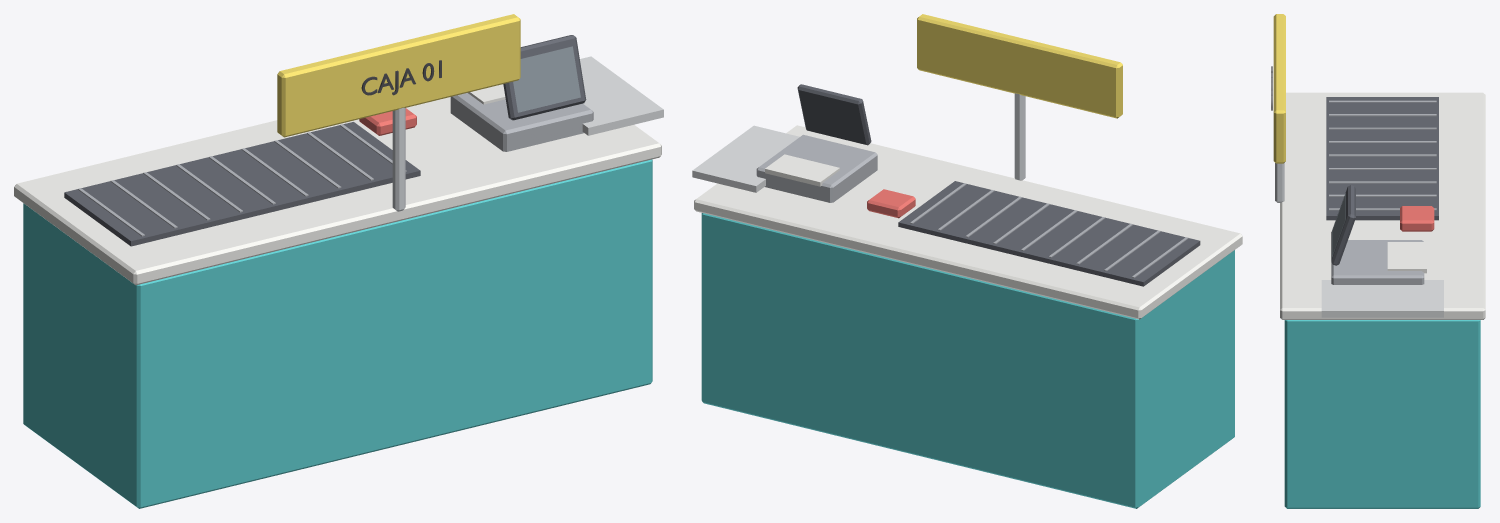
Rendered from Caja_01.fbx.
3 views of the same model, side by side, from view 1: azimuth 30°, elevation 25°; view 2: azimuth 150°, elevation 25°; view 3: azimuth 270°, elevation 25° (orthographic). The views are drawn at different scales.
Parts seen in each view (by area): view 1: Caja_01 | Mostrador, Caja_01 | Sobremesa, Caja_01 | Cinta, Caja_01 | Panel letrero caja, Caja_01 | Pantalla, Caja_01 | Base caja registradora, Caja_01 | Zona bolsas, Caja_01 | Pantalla luz, Caja_01 | Poste letrero, Caja_01 | Escanner, Caja_01 | Texto caja; view 2: Caja_01 | Mostrador, Caja_01 | Sobremesa, Caja_01 | Cinta, Caja_01 | Panel letrero caja, Caja_01 | Base caja registradora, Caja_01 | Zona bolsas, Caja_01 | Pantalla, Caja_01 | Teclado, Caja_01 | Poste letrero, Caja_01 | Escanner; view 3: Caja_01 | Mostrador, Caja_01 | Sobremesa, Caja_01 | Cinta, Caja_01 | Zona bolsas, Caja_01 | Base caja registradora, Caja_01 | Panel letrero caja, Caja_01 | Pantalla, Caja_01 | Teclado, Caja_01 | Escanner, Caja_01 | Poste letrero, Caja_01 | Pantalla luz, Caja_01 | Rayas cinta (+5 smaller).
Part boxes in pixels (x1,y1,x2,y2): Caja_01 | Mostrador: (23, 159, 652, 508); Caja_01 | Sobremesa: (14, 97, 661, 285); Caja_01 | Cinta: (64, 122, 420, 246); Caja_01 | Panel letrero caja: (277, 14, 520, 137); Caja_01 | Pantalla: (503, 35, 586, 120); Caja_01 | Base caja registradora: (450, 93, 593, 151); Caja_01 | Zona bolsas: (580, 56, 663, 135); Caja_01 | Pantalla luz: (513, 46, 580, 112); Caja_01 | Poste letrero: (392, 107, 405, 211); Caja_01 | Escanner: (359, 108, 416, 135); Caja_01 | Texto caja: (361, 60, 441, 95); Caja_01 | Mostrador: (701, 213, 1234, 508); Caja_01 | Sobremesa: (694, 125, 1242, 319); Caja_01 | Cinta: (898, 181, 1200, 286); Caja_01 | Panel letrero caja: (917, 14, 1122, 118); Caja_01 | Base caja registradora: (756, 134, 877, 202); Caja_01 | Zona bolsas: (692, 125, 799, 192); Caja_01 | Pantalla: (797, 84, 871, 145); Caja_01 | Teclado: (765, 154, 839, 186); Caja_01 | Poste letrero: (1014, 93, 1025, 180); Caja_01 | Escanner: (867, 189, 915, 218); Caja_01 | Mostrador: (1284, 320, 1480, 508); Caja_01 | Sobremesa: (1280, 92, 1485, 319); Caja_01 | Cinta: (1326, 97, 1438, 220); Caja_01 | Zona bolsas: (1321, 280, 1443, 317); Caja_01 | Base caja registradora: (1331, 240, 1424, 284); Caja_01 | Panel letrero caja: (1273, 14, 1285, 163); Caja_01 | Pantalla: (1331, 185, 1355, 265); Caja_01 | Teclado: (1387, 242, 1426, 273); Caja_01 | Escanner: (1400, 206, 1434, 231); Caja_01 | Poste letrero: (1275, 163, 1284, 202); Caja_01 | Pantalla luz: (1332, 193, 1345, 256); Caja_01 | Rayas cinta: (1329, 100, 1436, 102).
Bounding box in the file's own units: 2.2 × 1.54 × 0.875.
